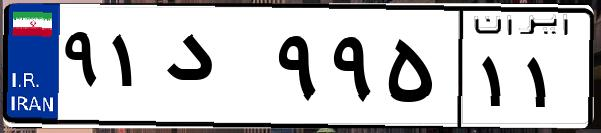1: (475, 38, 525, 113), (525, 38, 570, 115), (110, 28, 158, 98)
5: (385, 28, 445, 110)
9: (270, 28, 330, 110), (330, 28, 385, 110), (57, 26, 110, 100)
د: (158, 20, 270, 120)
